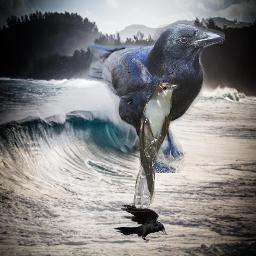Crow: (86, 23, 225, 173), (112, 204, 166, 243)
Cuckoo: (133, 81, 181, 209)
